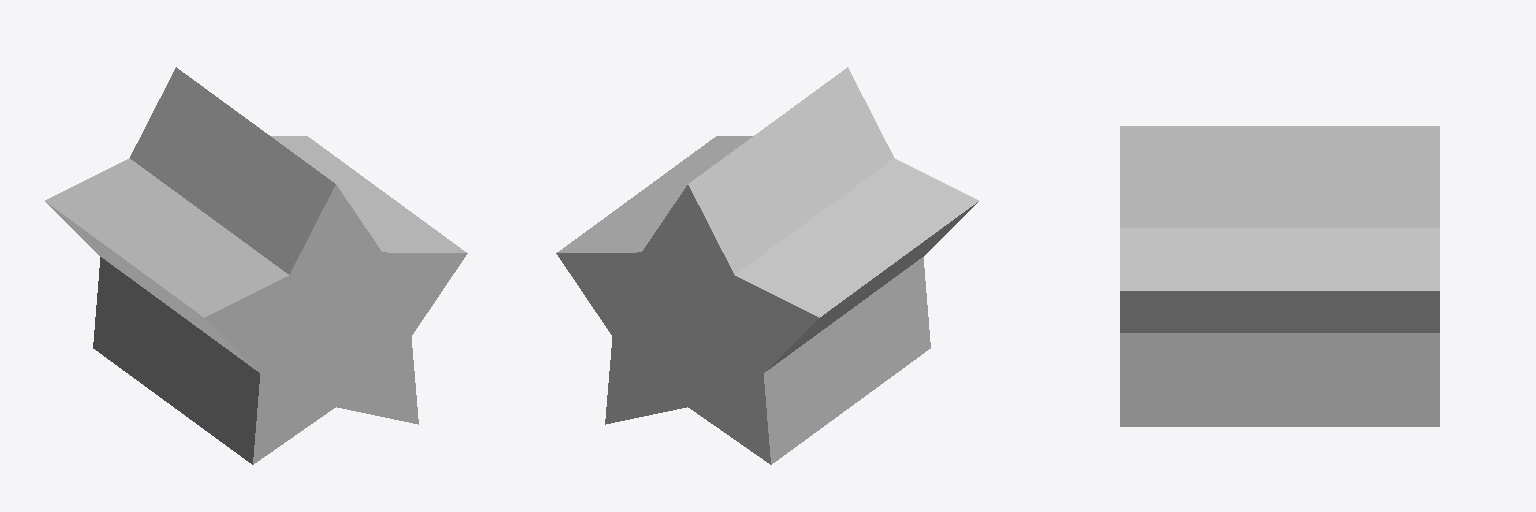
File: star_prism_block.obj
3 renders of one model, left to right at view 1: azimuth 30°, elevation 25°; view 2: azimuth 150°, elevation 25°; view 3: azimuth 270°, elevation 25°, orthographic.
Size of the model in its own units: 0.0476 by 0.045 by 0.05.